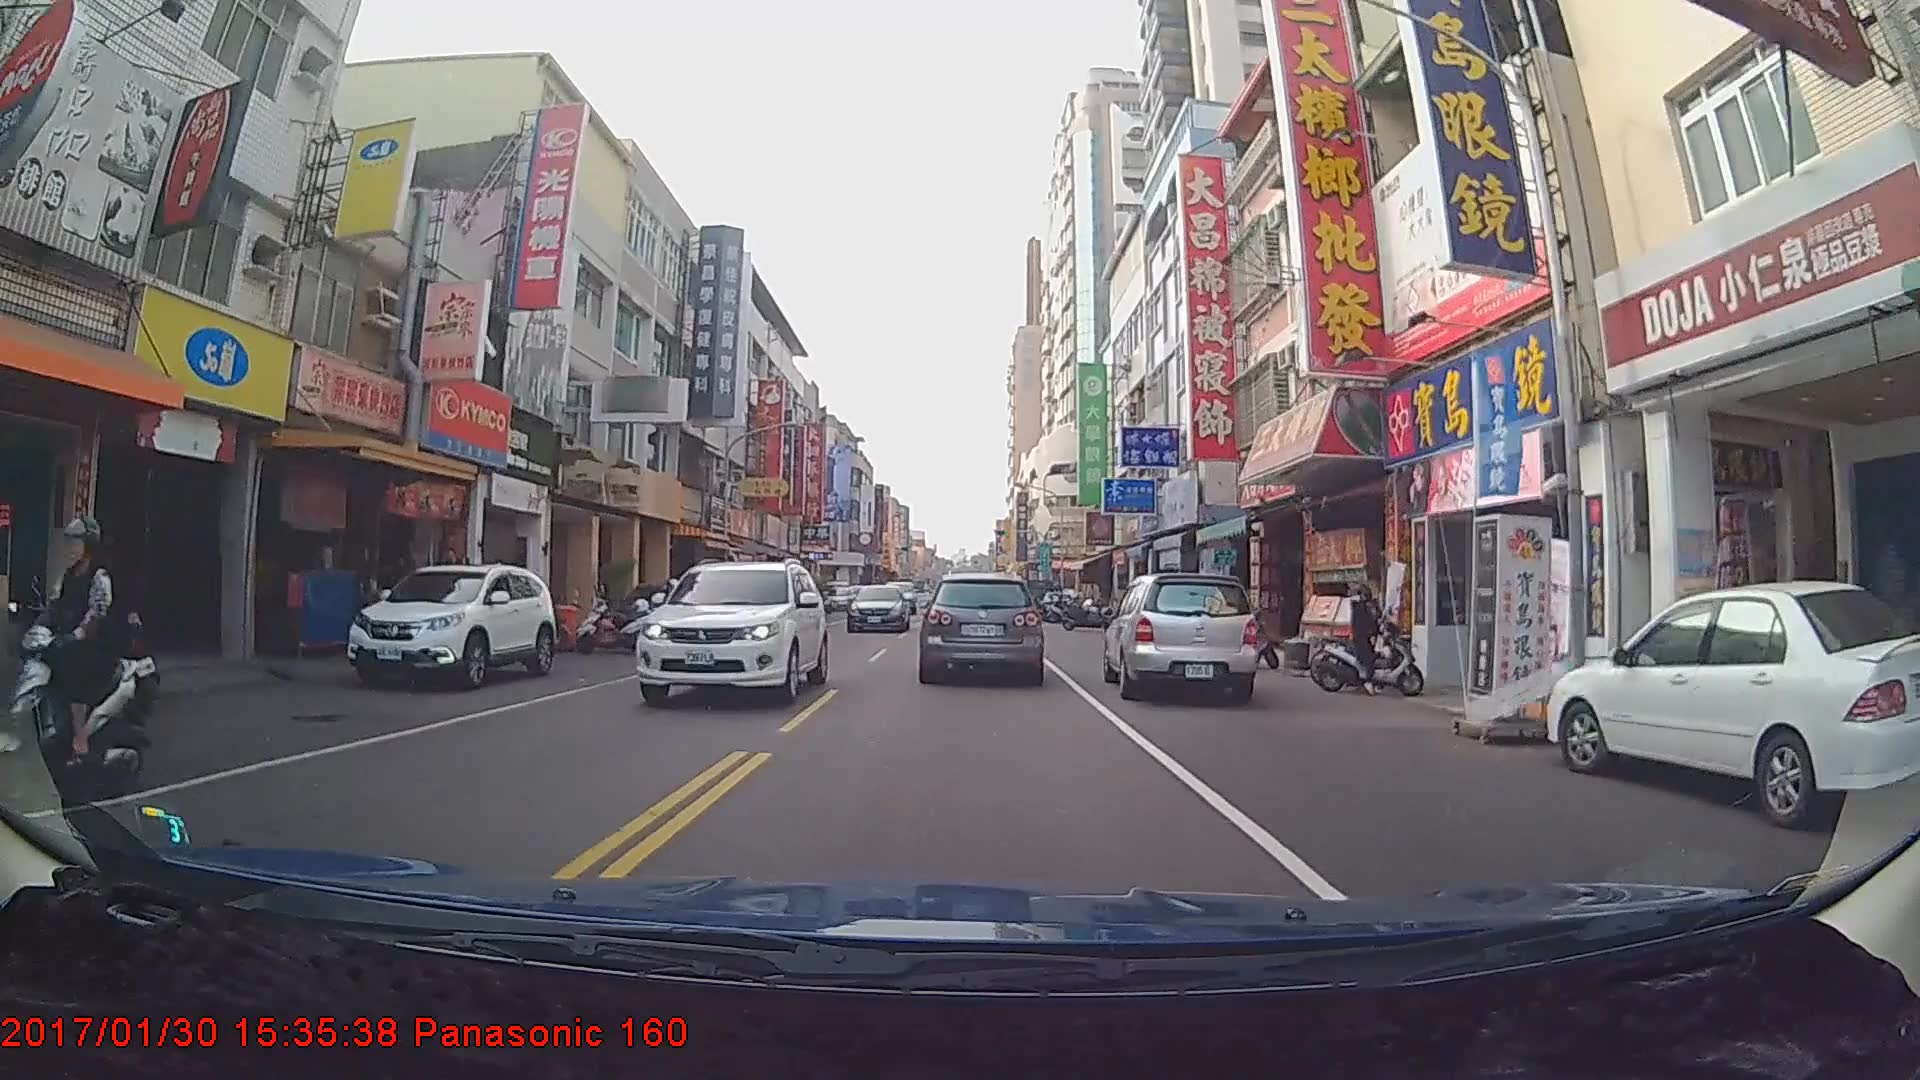rider: (14, 513, 141, 806), (1311, 575, 1431, 701)
vehicle: (1545, 579, 1920, 826), (634, 558, 828, 708), (340, 558, 557, 691), (1101, 568, 1261, 705), (920, 572, 1043, 683), (844, 581, 911, 632)
